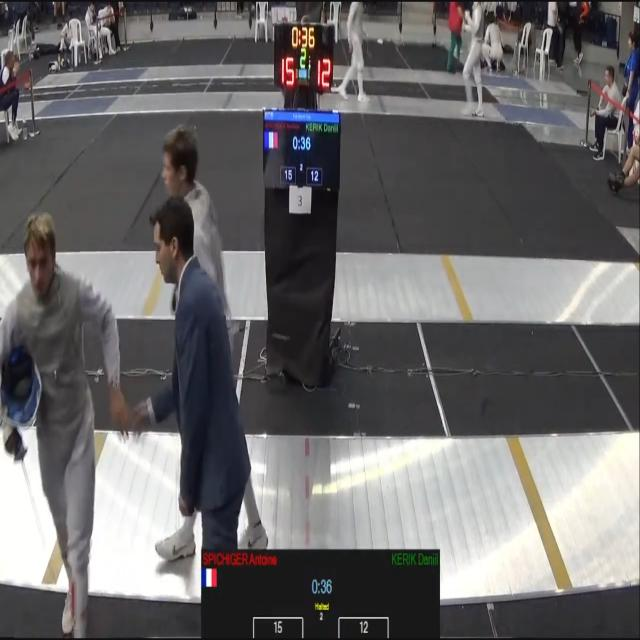fencer: (0, 199, 90, 631)
overlayLeft: (202, 552, 305, 609)
overlayRight: (335, 553, 439, 614)
scoreLeft: (266, 622, 300, 640)
scoreRight: (345, 619, 373, 639)
